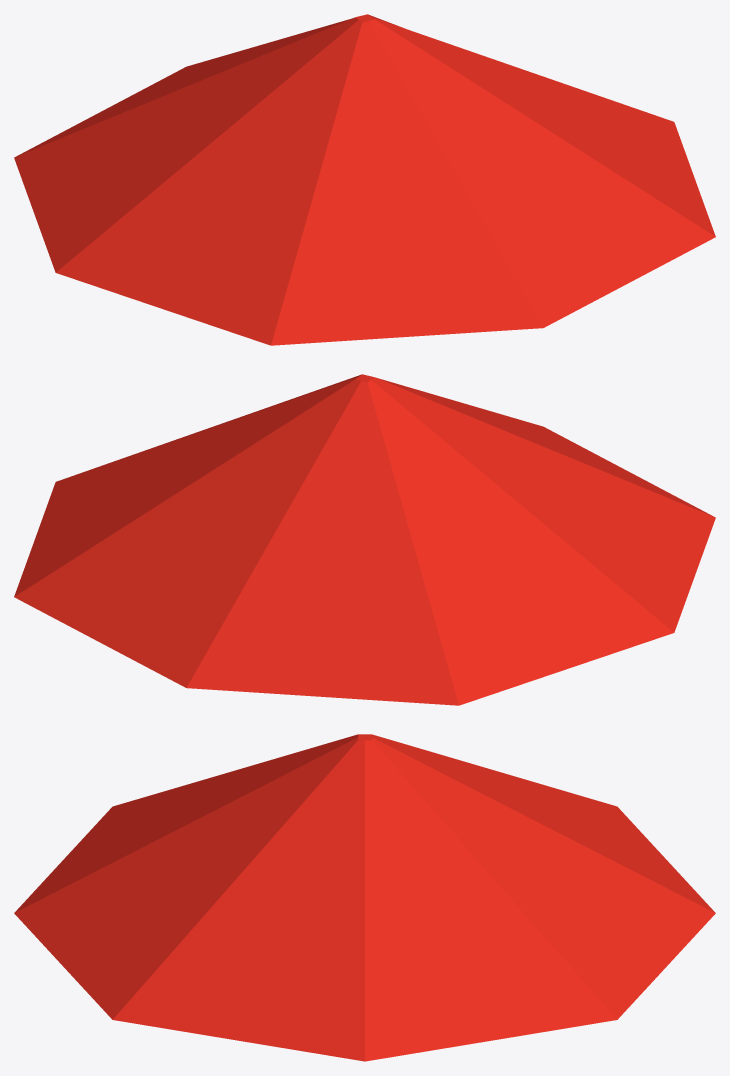
The model's file is Tower_Top.fbx.
3 views of the same model, one above another, from view 1: azimuth 30°, elevation 25°; view 2: azimuth 150°, elevation 25°; view 3: azimuth 270°, elevation 25° (orthographic).
Parts seen in each view (by area): view 1: Top; view 2: Top; view 3: Top.
Part boxes in pixels (x1,y1,x2,y2): Top: (14, 14, 715, 345); Top: (14, 374, 715, 705); Top: (14, 734, 715, 1061).
Size of the model in its own units: 2975 by 823 by 2975.
